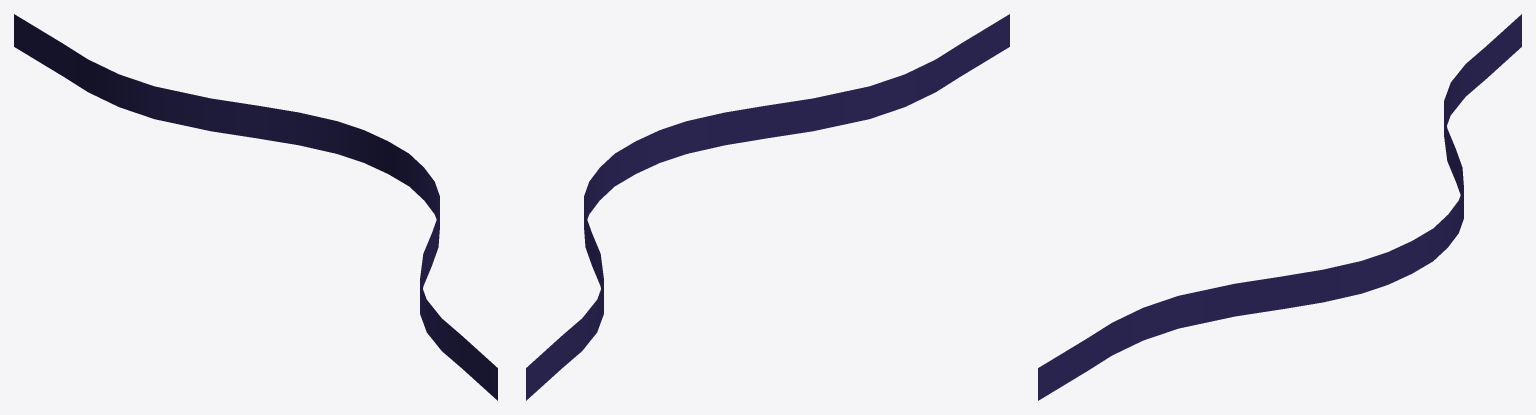
Rendered from CurveBanner.fbx.
3 views of the same model, side by side, from view 1: azimuth 30°, elevation 25°; view 2: azimuth 150°, elevation 25°; view 3: azimuth 330°, elevation 25° (orthographic).
Visible parts, largest first — view 1: Cylinder; view 2: Cylinder; view 3: Cylinder.
Boxes of the visible parts, x1,y1,x2,y2 form: Cylinder: [14, 14, 497, 400]; Cylinder: [526, 14, 1009, 400]; Cylinder: [1038, 14, 1521, 400].
Size of the model in its own units: 96.01 by 19.67 by 525.
